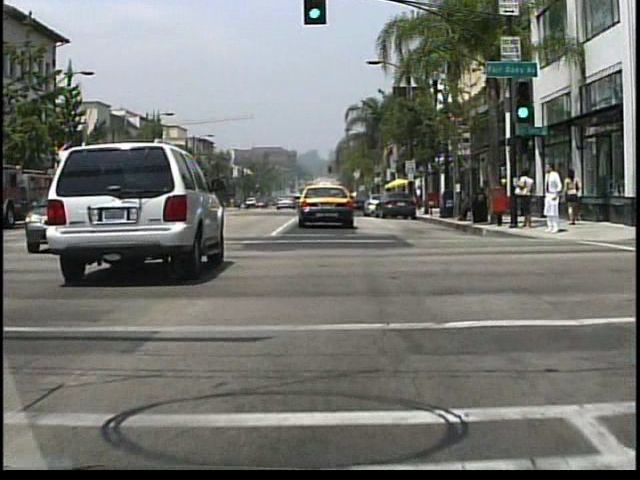person: (543, 162, 564, 235), (516, 166, 535, 233), (562, 168, 580, 226), (456, 188, 477, 222), (478, 179, 489, 220), (414, 186, 425, 213)
